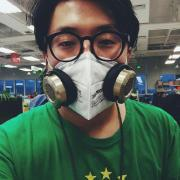OK: (44, 22, 132, 110)
